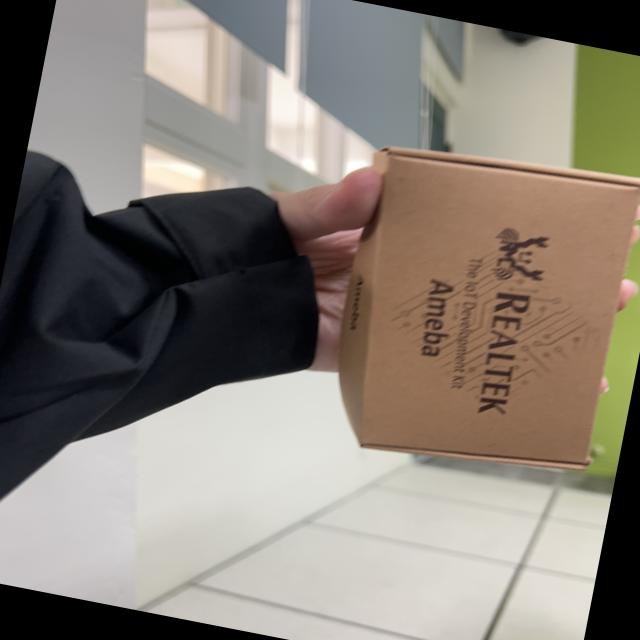box: (279, 128, 640, 513)
